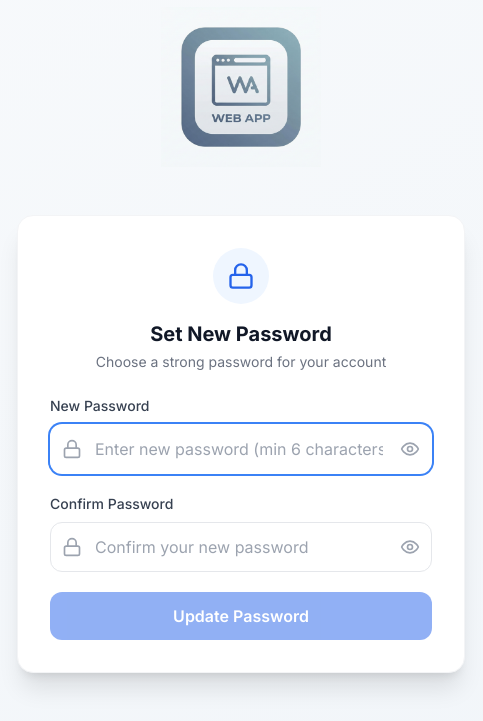
it: UpdatePasswordPage › shows mismatch hint inline when passwords differ
This screenshot has width=483, height=721.
Type "abc123" into the password field with placeholder "Enter new password (min 6 characters)" at (241, 449), box 50,424 -> 432,474
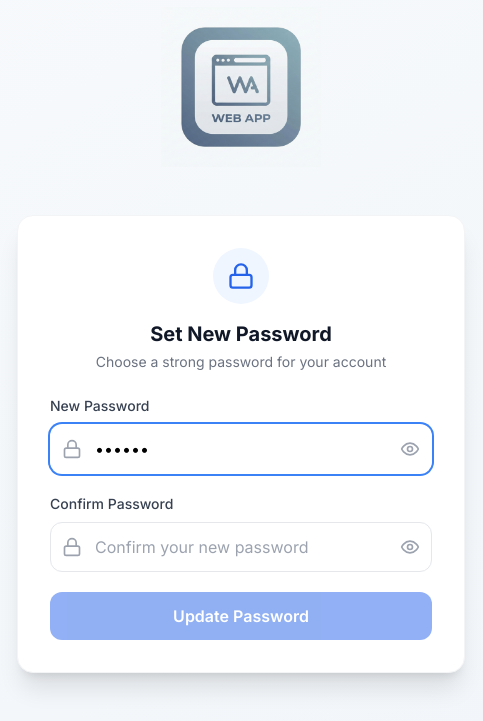
Type "xyz789" into the password field with placeholder "Confirm your new password" at (241, 547), box 50,522 -> 432,572
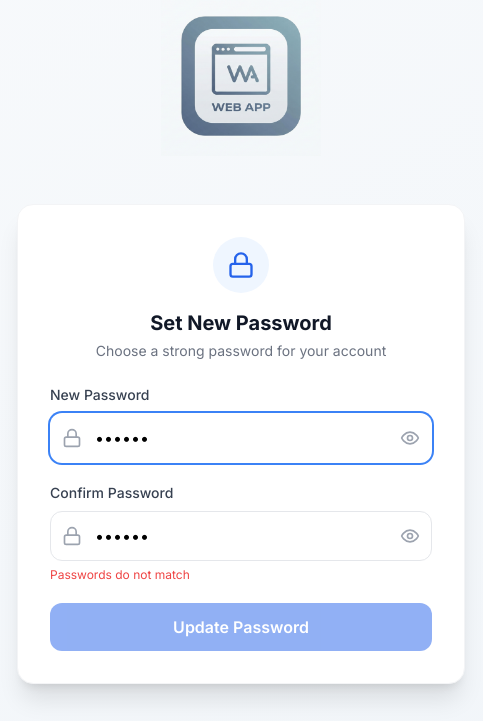
Result: the text "Passwords do not match" is shown at 50,567 -> 190,582
